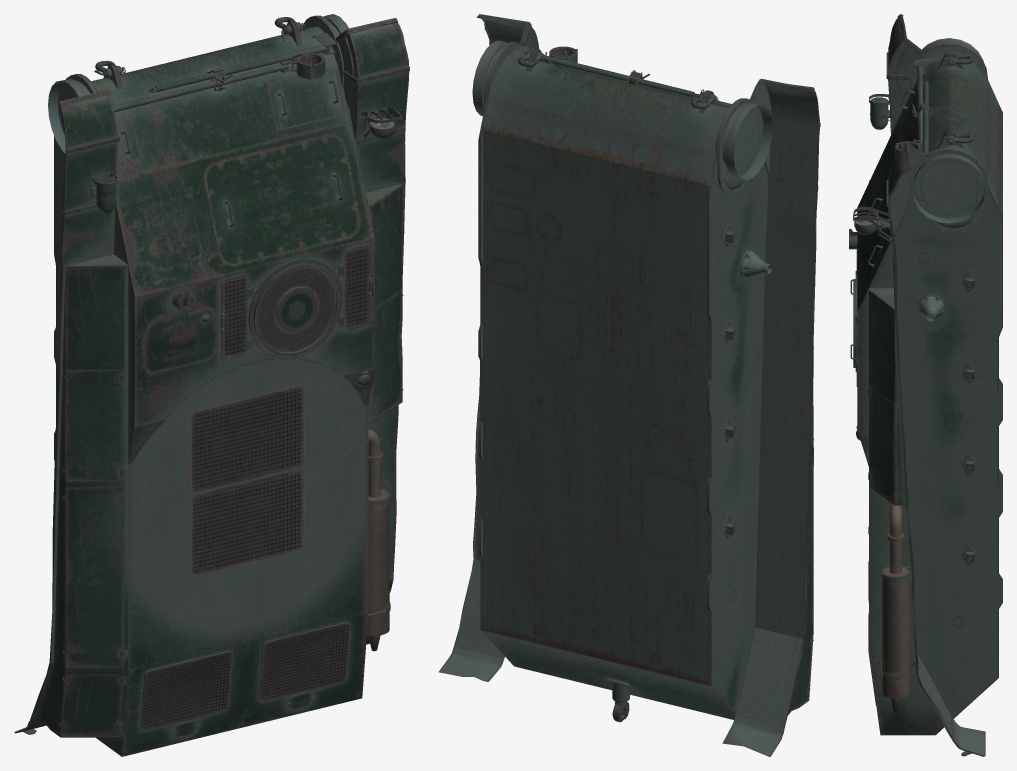
File: Hull.glb
The picture shows the model from 3 angles, left to right: view 1: azimuth 30°, elevation 25°; view 2: azimuth 150°, elevation 25°; view 3: azimuth 270°, elevation 25°; orthographic projection. The views are drawn at different scales.
Parts seen in each view (by area): view 1: set_0_group_0; view 2: set_0_group_0; view 3: set_0_group_0.
Part boxes in pixels (x1,y1,x2,y2): set_0_group_0: [14, 14, 409, 756]; set_0_group_0: [438, 14, 820, 756]; set_0_group_0: [849, 14, 1002, 756].
Size of the model in its own units: 2.49 by 4.69 by 1.07.
1 material, 1 textured.
